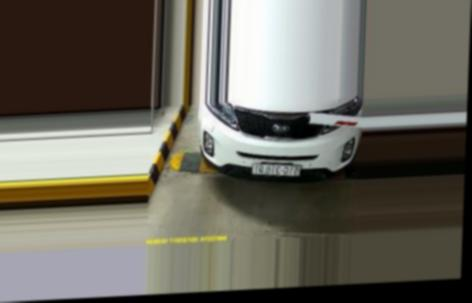License_Plate: (249, 161, 303, 179)
